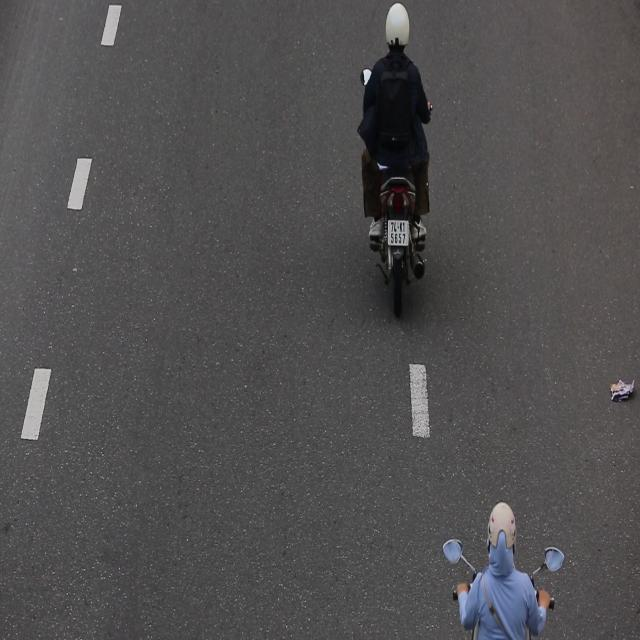motorbike: (351, 0, 443, 323)
